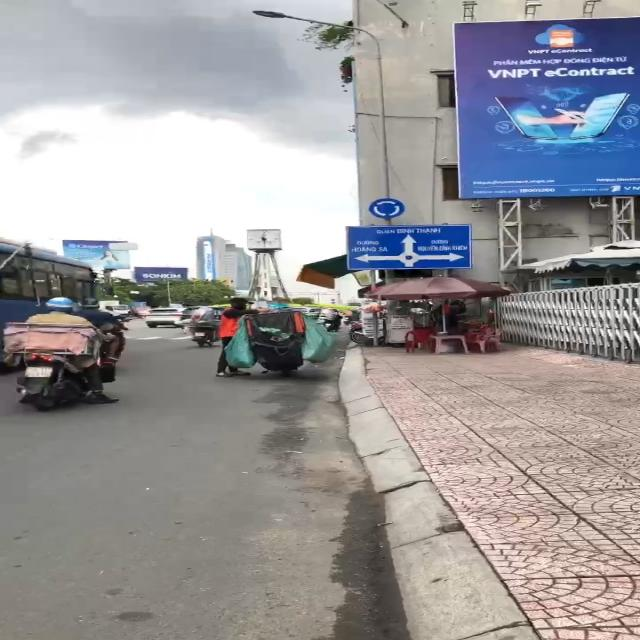Bien bao noi giao nhau chay theo vong xuyen: (366, 196, 409, 222)
